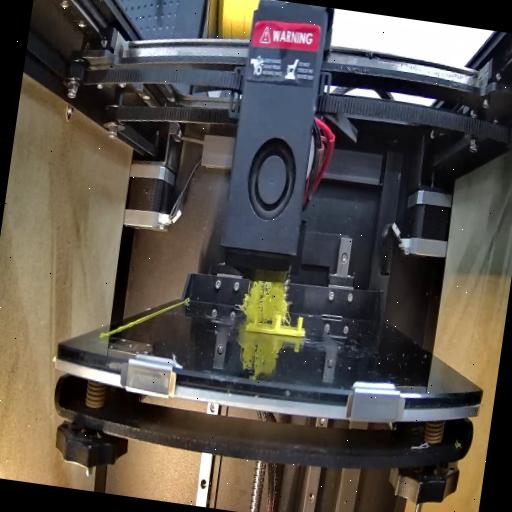spaghetti: (236, 272, 294, 326)
